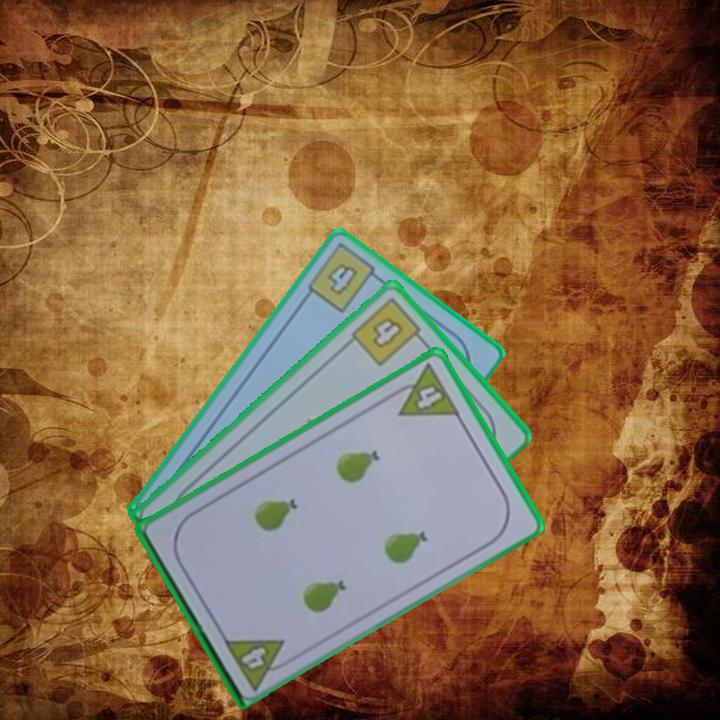4b: (347, 293, 429, 369), (303, 242, 385, 316)
4p: (384, 360, 463, 419), (219, 633, 296, 692)
